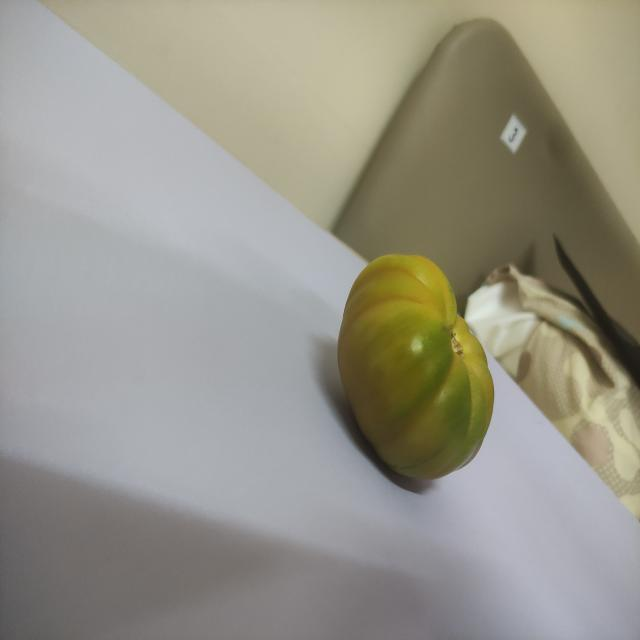yesil: (330, 245, 512, 498)
